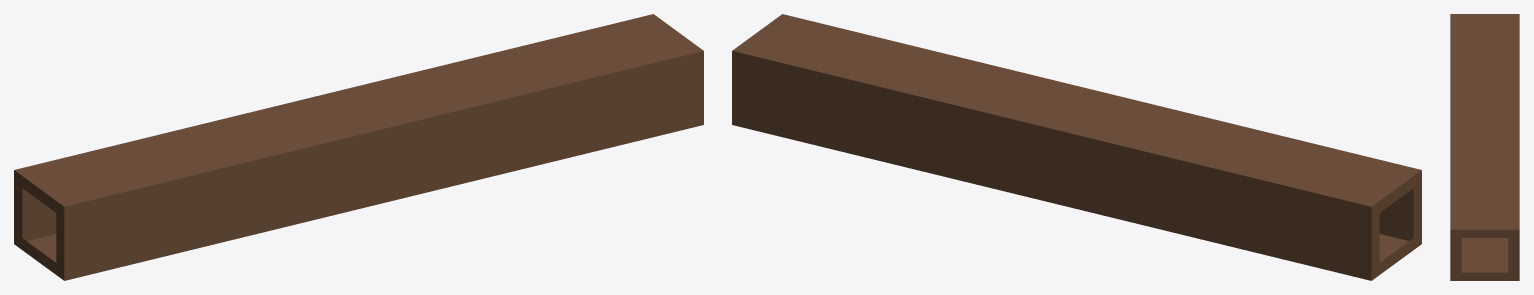
File: Tronco.glb
The picture shows the model from 3 angles, left to right: view 1: azimuth 30°, elevation 25°; view 2: azimuth 150°, elevation 25°; view 3: azimuth 270°, elevation 25°; orthographic projection. The views are drawn at different scales.
Parts seen in each view (by area): view 1: Cube; view 2: Cube; view 3: Cube.
Part boxes in pixels (x1,y1,x2,y2): Cube: [14, 14, 703, 280]; Cube: [732, 14, 1421, 280]; Cube: [1450, 14, 1519, 280].
Size of the model in its own units: 10.76 by 1.19 by 1.47.
